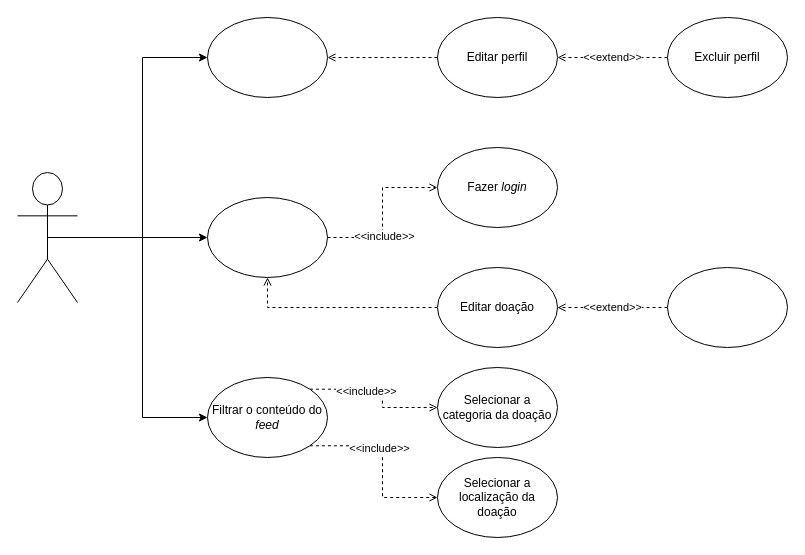
Image size: 805x555. Some labels were removed from this diagram. Here are the shapes that lost their labels. From the top down, the box of each, then its label:
(206, 16, 328, 98): Fazer cadastro
(16, 172, 78, 302): Doador
(206, 196, 328, 278): Cadastrar doação
(666, 266, 788, 348): Excluir doação
